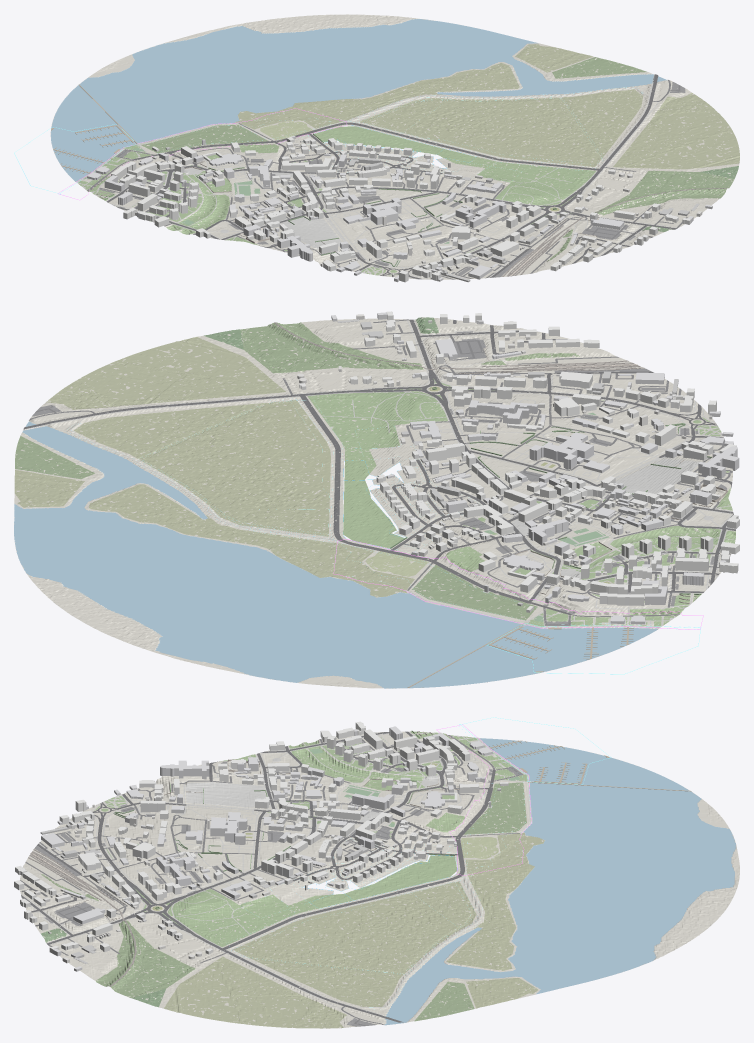
Rendered from context.glb.
3 views of the same model, one above another, from view 1: azimuth 30°, elevation 25°; view 2: azimuth 150°, elevation 25°; view 3: azimuth 270°, elevation 25° (orthographic). The views are drawn at different scales.
Visible parts, largest first — view 1: TERRAIN_CONTEXT_NMT_2m, WATER_SURFACE_01, GREEN_WETLAND_REEDS_001, GREEN_WETLAND_REEDS_002, GREEN_WETLAND_REEDS_003, GREEN_SCRUB_001, GREEN_LAWN_PARK_001_ON_SITE, GREEN_SCRUB_002, GREEN_LAWN_PARK_001, GREEN_WETLAND_REEDS_004, GREEN_SCRUB_003, PATH_Plac 5-go Marca (+10 smaller); view 2: TERRAIN_CONTEXT_NMT_2m, WATER_SURFACE_01, GREEN_WETLAND_REEDS_001, GREEN_WETLAND_REEDS_002, GREEN_WETLAND_REEDS_003, GREEN_SCRUB_001, GREEN_LAWN_PARK_001_ON_SITE, GREEN_SCRUB_002, GREEN_LAWN_PARK_001, GREEN_WETLAND_REEDS_004, GREEN_SCRUB_003, PATH_Plac 5-go Marca (+16 smaller); view 3: TERRAIN_CONTEXT_NMT_2m, WATER_SURFACE_01, GREEN_WETLAND_REEDS_001, GREEN_WETLAND_REEDS_002, GREEN_WETLAND_REEDS_003, GREEN_SCRUB_001, GREEN_LAWN_PARK_001_ON_SITE, GREEN_SCRUB_002, GREEN_LAWN_PARK_001, PATH_Plac 5-go Marca, GREEN_WETLAND_REEDS_004, ROAD_Dziwnowska (+10 smaller).
Part boxes in pixels (x1,y1,x2,y2): TERRAIN_CONTEXT_NMT_2m: [50, 14, 739, 279]; WATER_SURFACE_01: [50, 19, 667, 181]; GREEN_WETLAND_REEDS_001: [359, 89, 642, 166]; GREEN_WETLAND_REEDS_002: [613, 93, 739, 169]; GREEN_WETLAND_REEDS_003: [235, 63, 519, 129]; GREEN_SCRUB_001: [595, 170, 734, 215]; GREEN_LAWN_PARK_001_ON_SITE: [314, 126, 475, 162]; GREEN_SCRUB_002: [141, 125, 268, 153]; GREEN_LAWN_PARK_001: [445, 157, 557, 199]; GREEN_WETLAND_REEDS_004: [515, 44, 593, 72]; GREEN_SCRUB_003: [552, 57, 646, 78]; PATH_Plac 5-go Marca: [281, 217, 341, 248]; TERRAIN_CONTEXT_NMT_2m: [14, 317, 735, 688]; WATER_SURFACE_01: [14, 421, 657, 688]; GREEN_WETLAND_REEDS_001: [74, 400, 330, 536]; GREEN_WETLAND_REEDS_002: [46, 337, 285, 409]; GREEN_WETLAND_REEDS_003: [89, 484, 414, 597]; GREEN_SCRUB_001: [240, 322, 423, 373]; GREEN_LAWN_PARK_001_ON_SITE: [343, 460, 404, 548]; GREEN_SCRUB_002: [412, 565, 537, 620]; GREEN_LAWN_PARK_001: [322, 416, 447, 534]; GREEN_WETLAND_REEDS_004: [14, 470, 84, 507]; GREEN_SCRUB_003: [15, 435, 94, 479]; PATH_Plac 5-go Marca: [615, 458, 699, 494]; TERRAIN_CONTEXT_NMT_2m: [20, 731, 739, 1028]; WATER_SURFACE_01: [384, 738, 736, 1025]; GREEN_WETLAND_REEDS_001: [233, 881, 476, 1006]; GREEN_WETLAND_REEDS_002: [164, 956, 346, 1028]; GREEN_WETLAND_REEDS_003: [446, 833, 544, 970]; GREEN_SCRUB_001: [95, 920, 195, 998]; GREEN_LAWN_PARK_001_ON_SITE: [310, 855, 456, 908]; GREEN_SCRUB_002: [464, 782, 526, 834]; GREEN_LAWN_PARK_001: [205, 889, 330, 934]; PATH_Plac 5-go Marca: [185, 782, 266, 807]; GREEN_WETLAND_REEDS_004: [466, 978, 537, 1008]; ROAD_Dziwnowska: [97, 817, 402, 1022].
Size of the model in its own units: 1300 by 34.14 by 1285.
